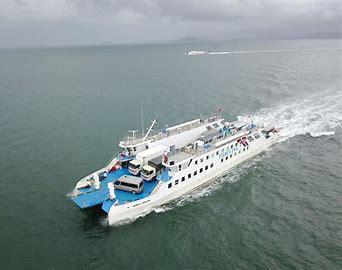Ship: (72, 116, 280, 226)
